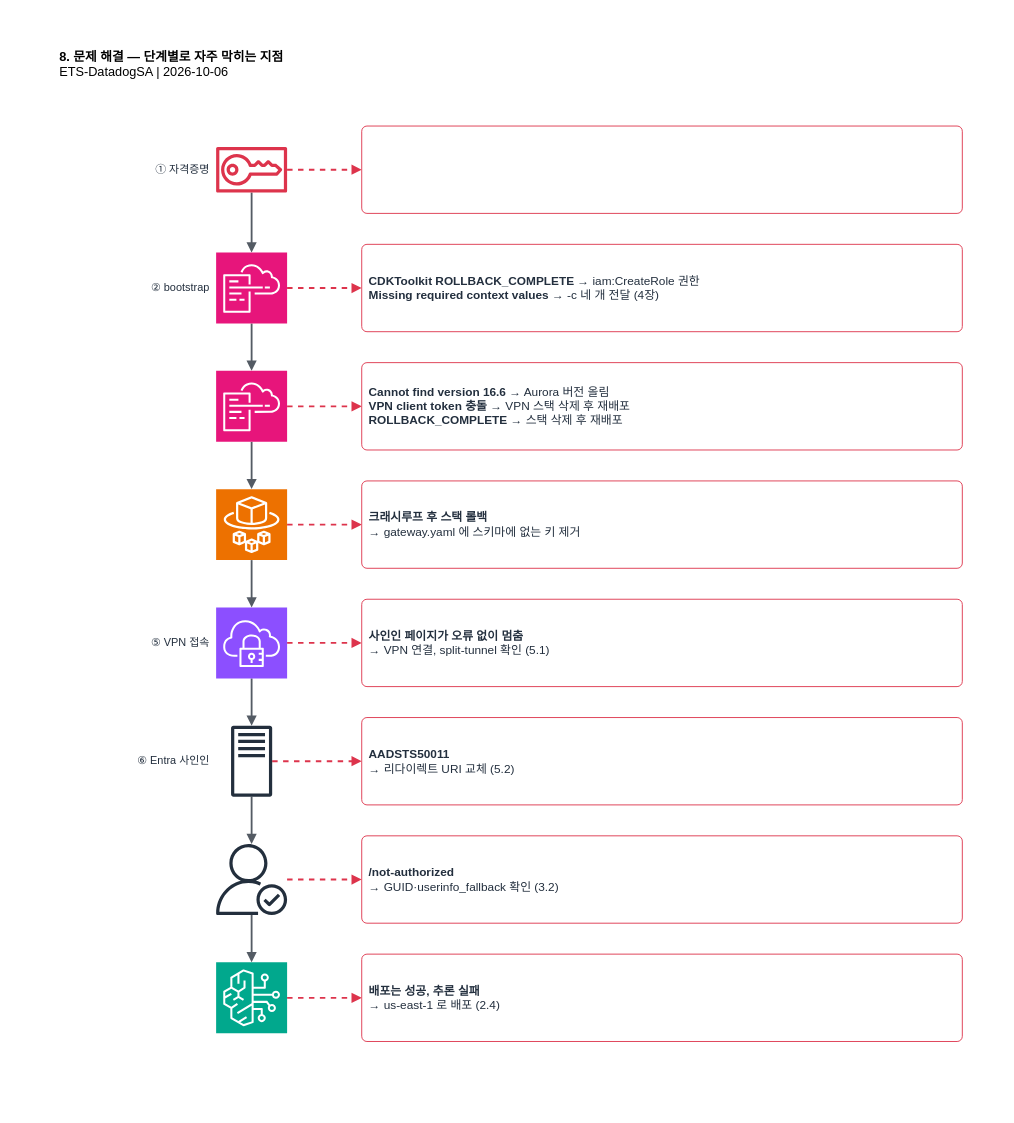
Some shapes in this 1014 by 1123 pixel diagram are drawn without their labels. Here are the shapes that lost their labels. From the top down, the centre of each, then its label:
At point 661,169: "Unable to resolve AWS account to use → CLI 세션을 환경변수로 넘김 (2.3)".
At point 251,406: "③ 스택 생성".
At point 251,524: "④ 컨테이너 기동".
At point 251,879: "⑦ 관리자 권한".
At point 251,997: "⑧ 추론".
